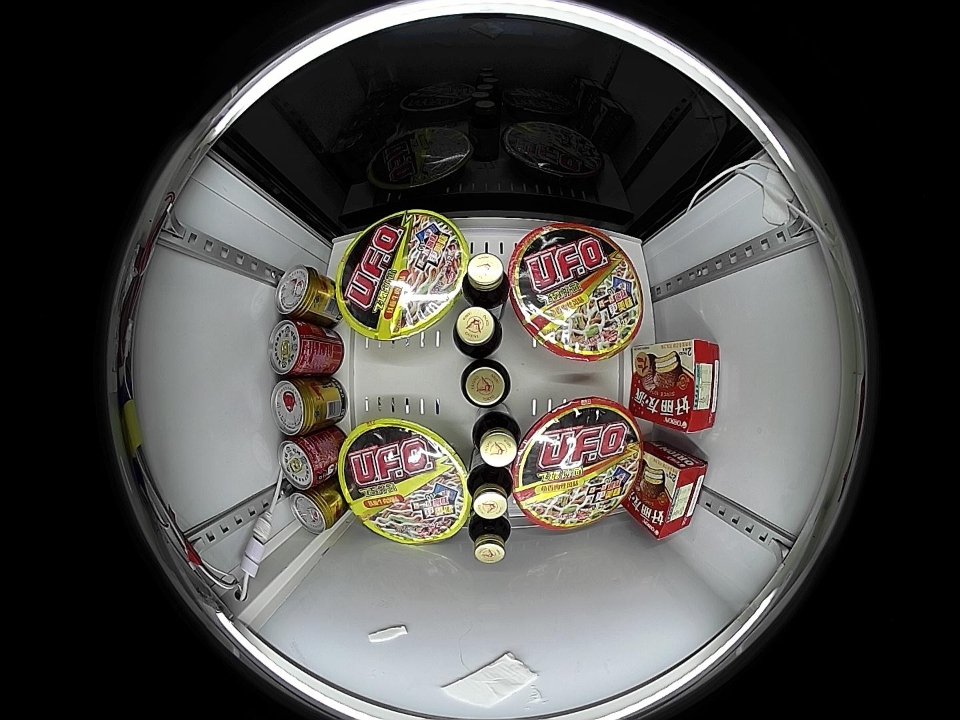haoliyou: (638, 449, 709, 540), (655, 339, 719, 433)
hongniu: (271, 377, 325, 436)
hongniu2: (275, 265, 328, 320), (288, 485, 340, 534)
libaojian: (471, 411, 521, 470), (467, 461, 515, 520), (452, 305, 505, 358), (460, 358, 512, 408), (461, 252, 508, 307), (468, 514, 512, 563)
ufo: (334, 208, 468, 342), (338, 418, 471, 546)
ufo2: (507, 223, 645, 362), (512, 397, 643, 530)
wangzainiunai: (268, 319, 326, 377), (278, 434, 333, 490)
